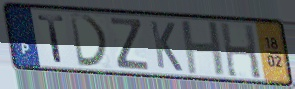D: (68, 12, 111, 69)
H: (179, 20, 229, 77), (218, 21, 264, 81)
K: (148, 18, 185, 73)
T: (35, 13, 67, 65)
Z: (108, 15, 151, 72)
